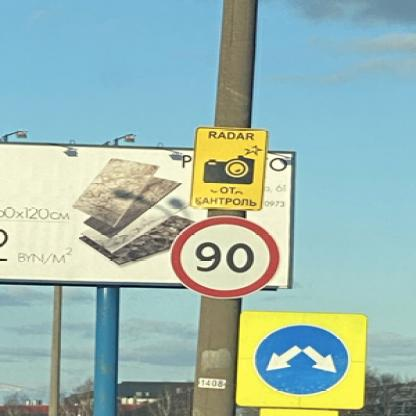Speed Limit 90: (173, 218, 278, 298)
